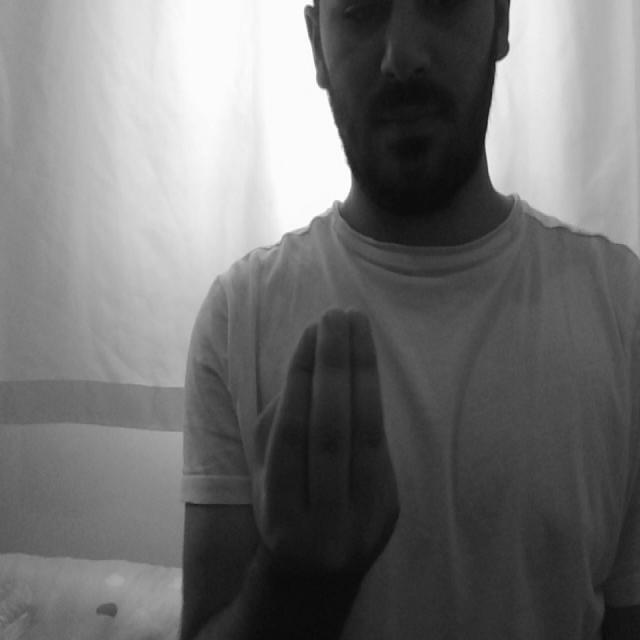iyi: (242, 294, 402, 582)
